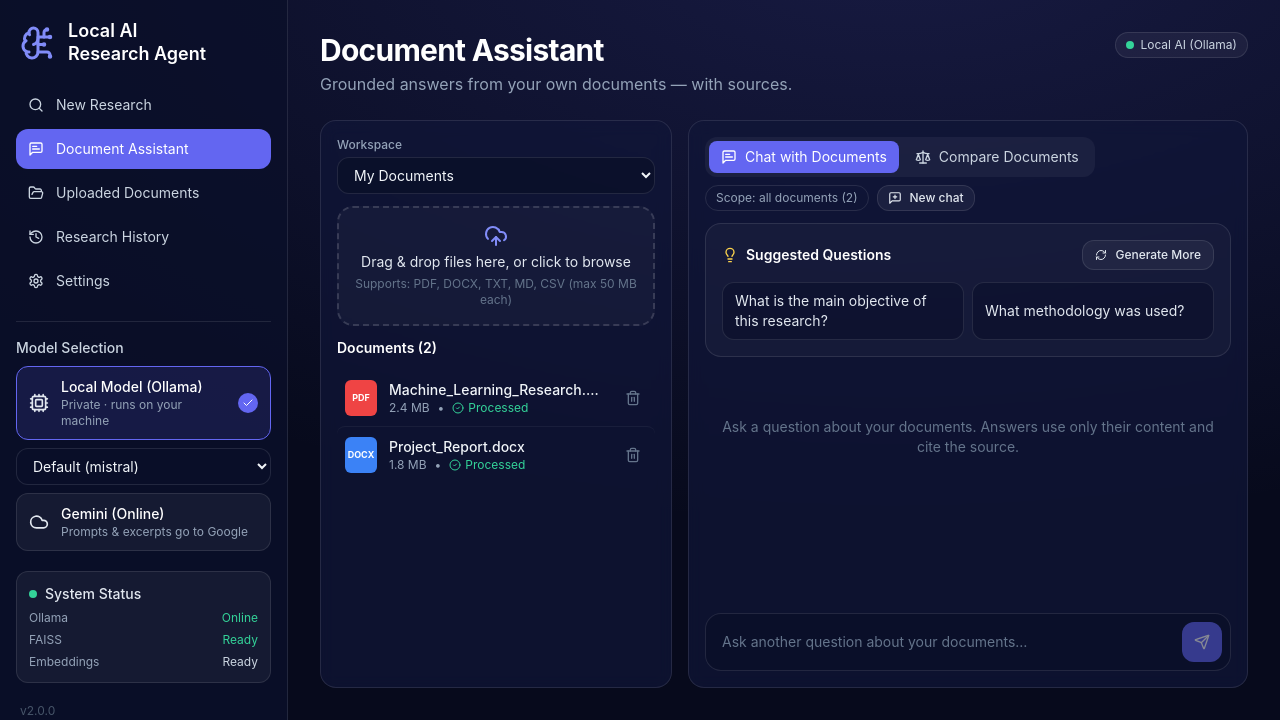
Test: Document Assistant › shows an error event from the stream
Type "hello there" into the field named "Message".
click(944, 642); type("hello there")  # box x1=714 y1=632 x2=1174 y2=652
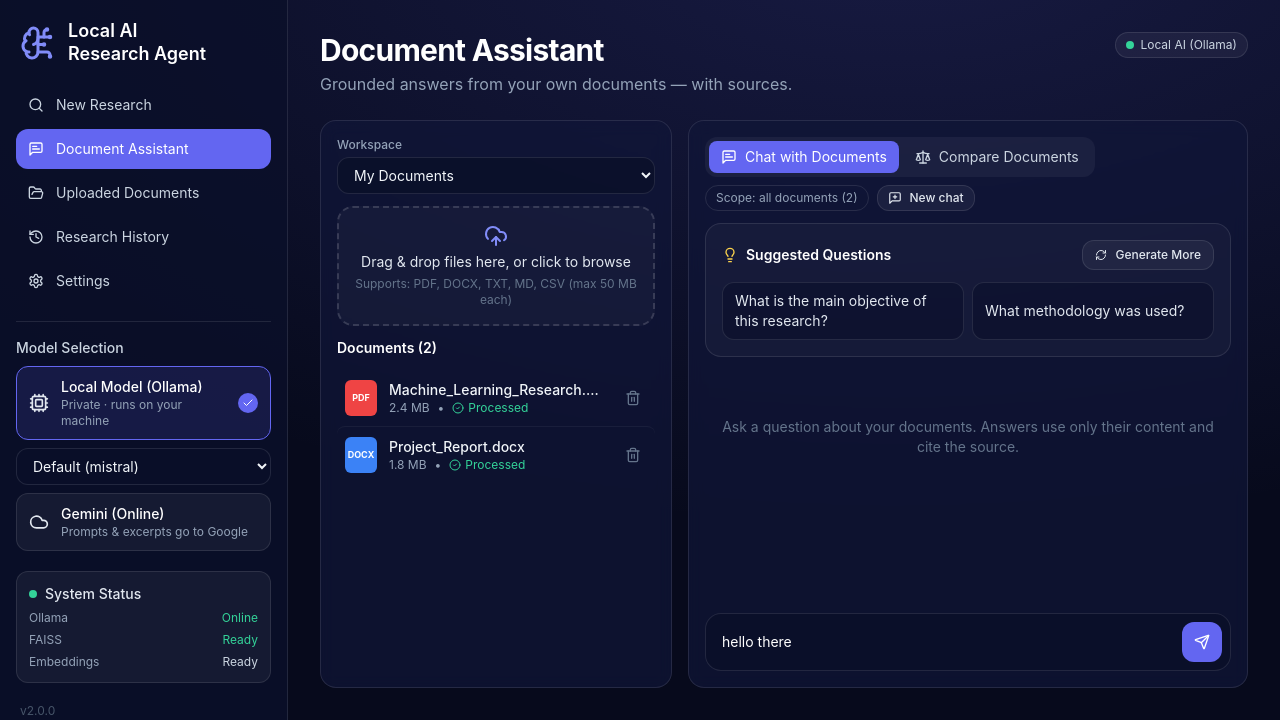
Click the button named "Send".
click(1202, 642)  # box x1=1182 y1=622 x2=1222 y2=662
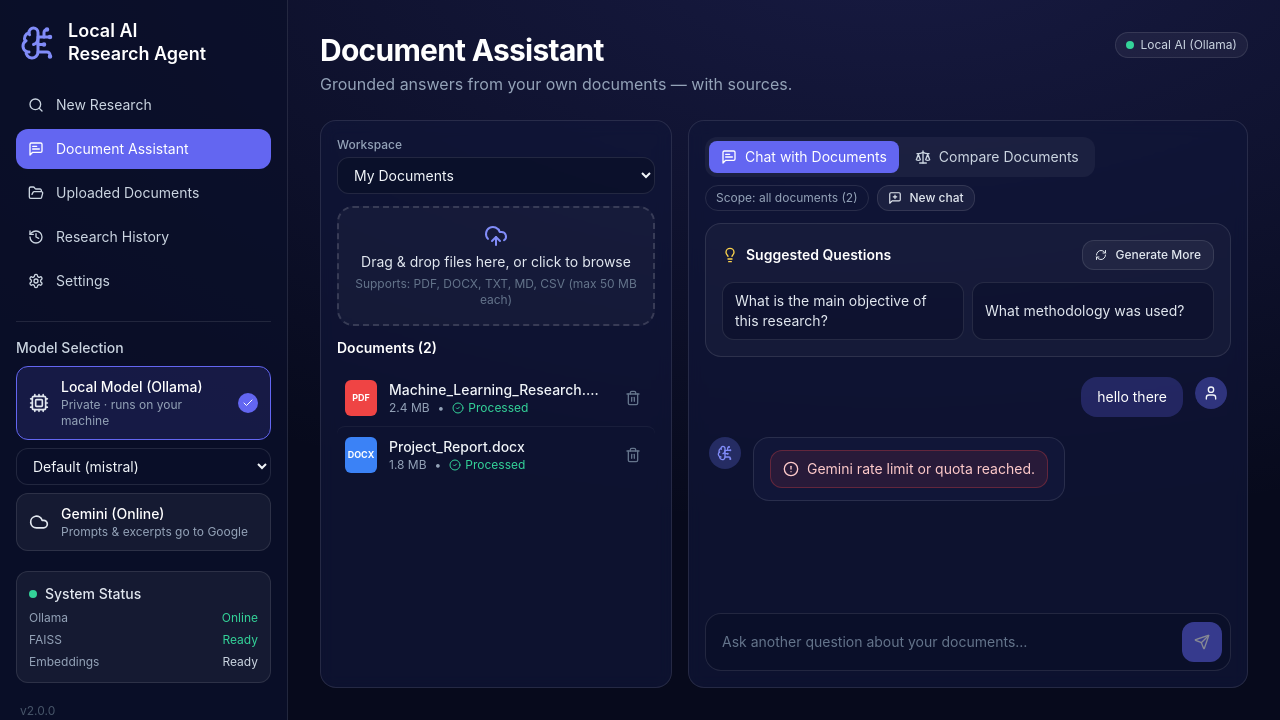
Expected: the message shows "rate limit", x1=807 y1=460 x2=1035 y2=477
